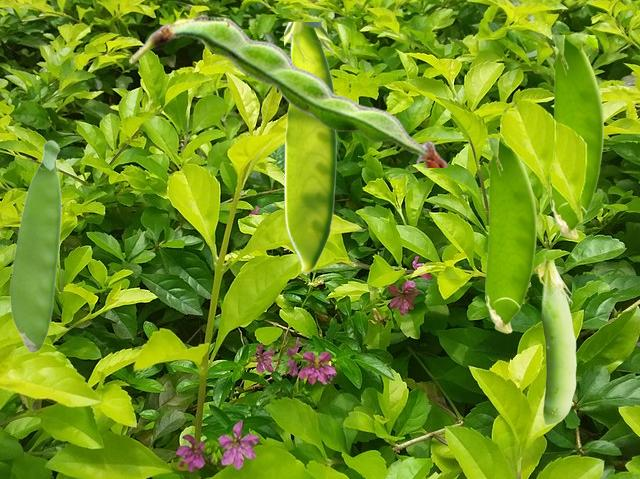pea: (129, 16, 447, 166), (284, 22, 336, 273), (9, 139, 61, 352), (550, 35, 602, 238), (485, 138, 535, 332), (534, 255, 575, 425)
